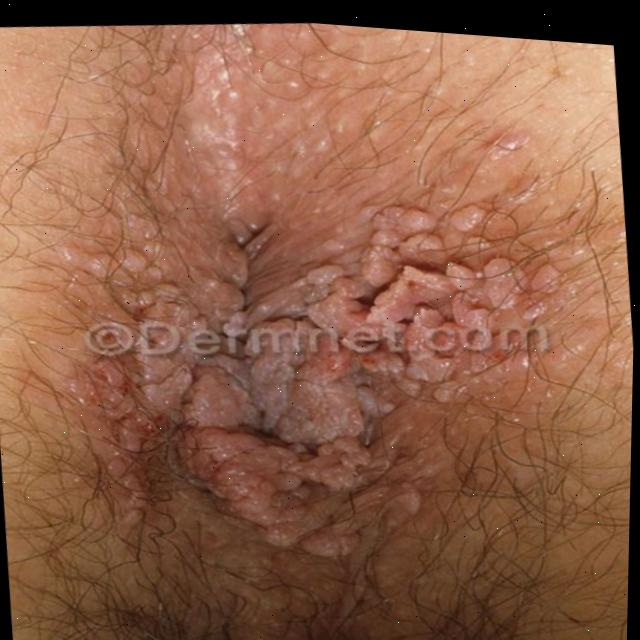Shingles: (146, 198, 528, 554)
